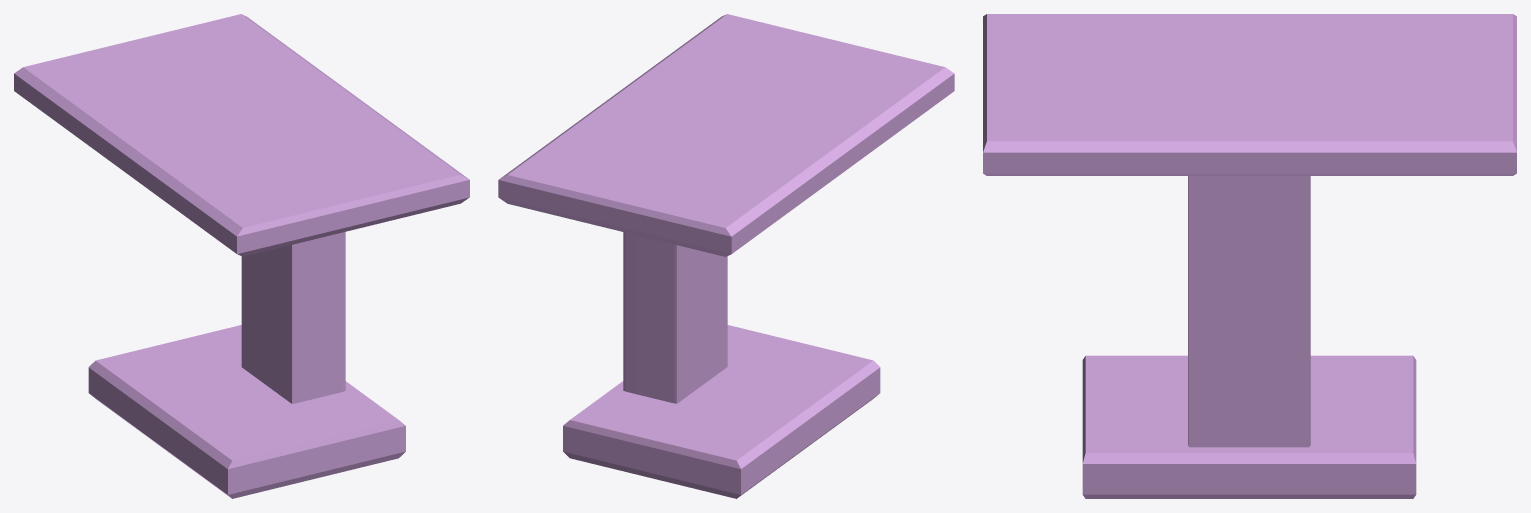
File: Friday_House_DoorTable.fbx
The picture shows the model from 3 angles, left to right: view 1: azimuth 30°, elevation 25°; view 2: azimuth 150°, elevation 25°; view 3: azimuth 270°, elevation 25°; orthographic projection. The views are drawn at different scales.
Visible parts, largest first — view 1: pCube2; view 2: pCube2; view 3: pCube2.
Boxes of the visible parts, x1,y1,x2,y2 form: pCube2: [14, 14, 469, 498]; pCube2: [498, 14, 954, 498]; pCube2: [983, 14, 1516, 498].
Bounding box in the file's own units: 202 × 256 × 335.
